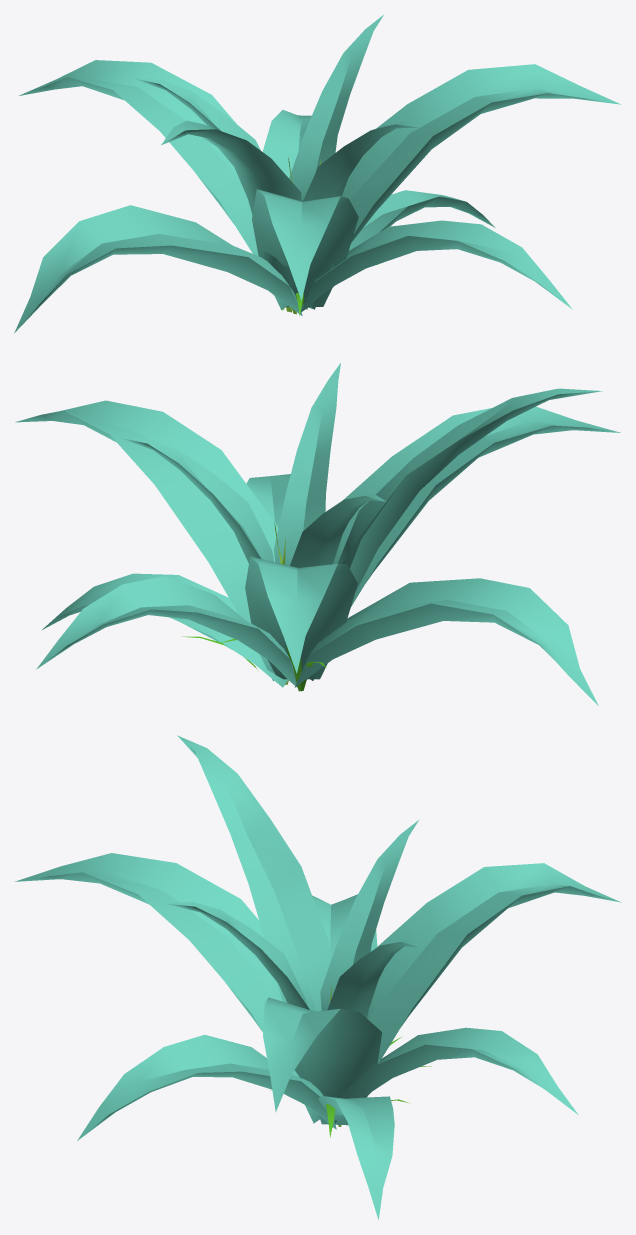
Rendered from polybeach_plants.fbx.
3 views of the same model, one above another, from view 1: azimuth 30°, elevation 25°; view 2: azimuth 150°, elevation 25°; view 3: azimuth 270°, elevation 25° (orthographic). The views are drawn at different scales.
Visible parts, largest first — view 1: beach_agave.003; view 2: beach_agave.003; view 3: beach_agave.003.
Part boxes in pixels (x1,y1,x2,y2): beach_agave.003: (14, 15, 620, 333); beach_agave.003: (15, 363, 620, 705); beach_agave.003: (14, 735, 621, 1219).
Size of the model in its own units: 2.74 by 1.24 by 2.41.
